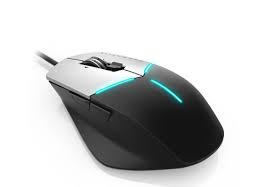mouse: (40, 51, 229, 171)
